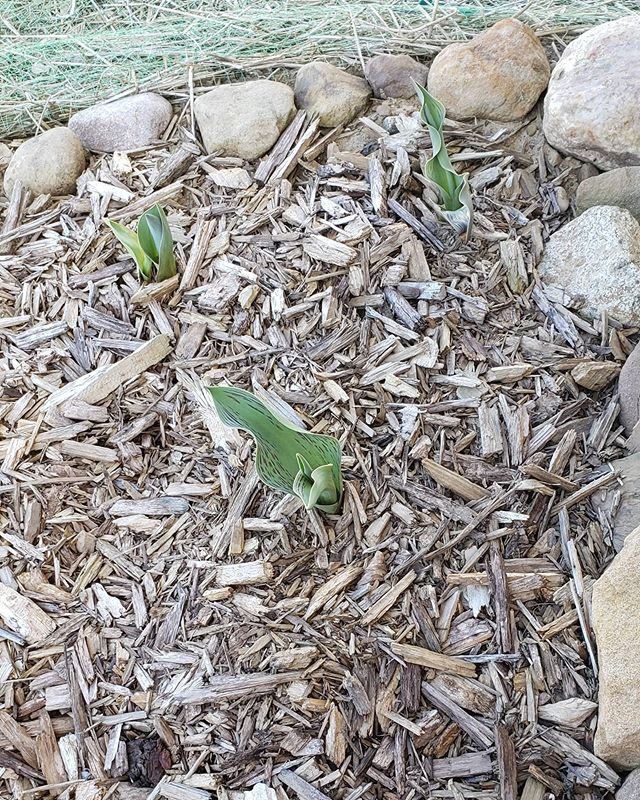rocks: (1, 10, 640, 219)
vegetation: (4, 8, 640, 800)
